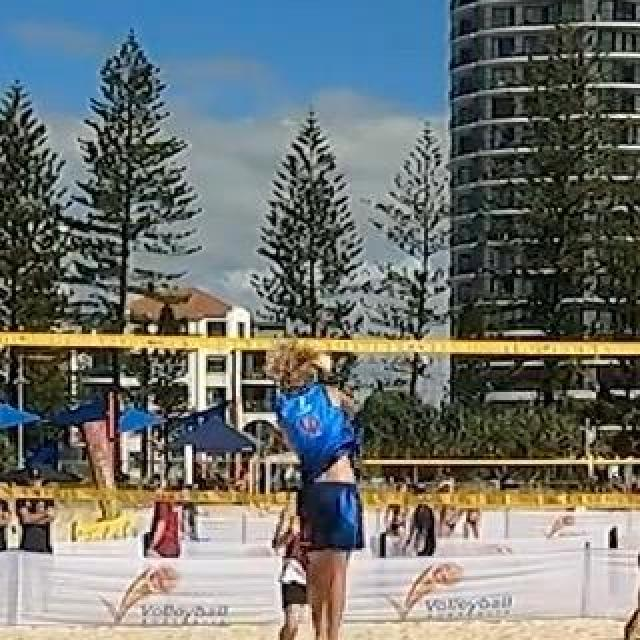volleyball: (299, 347, 331, 383)
